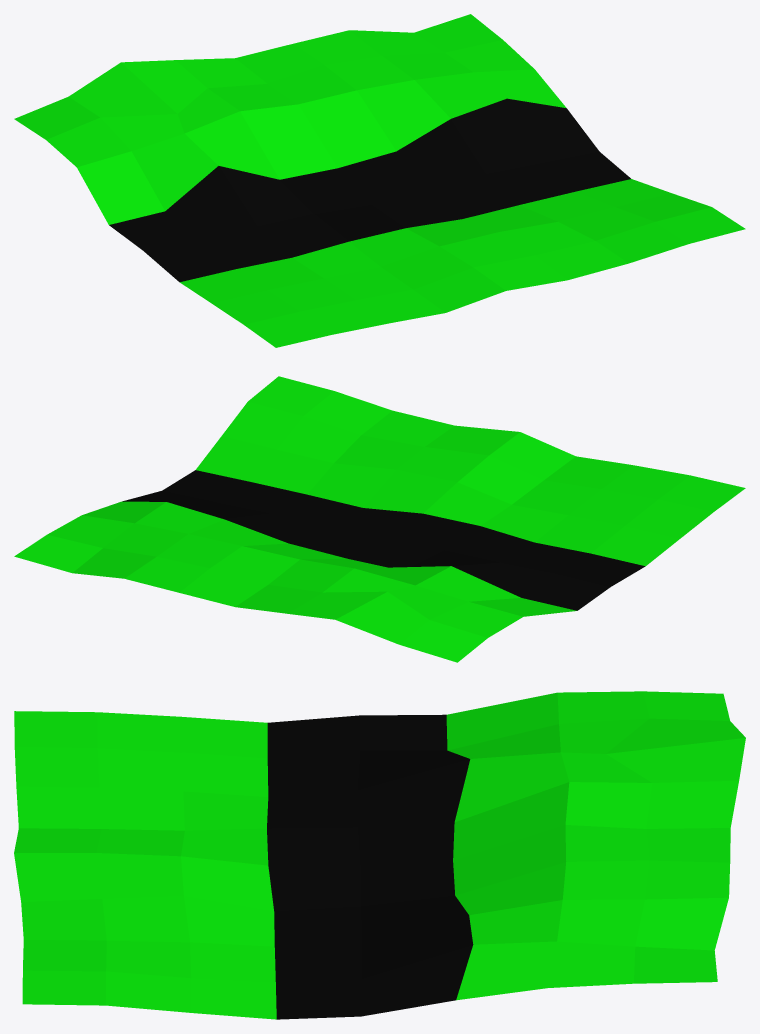
The model's file is Map.fbx.
3 views of the same model, one above another, from view 1: azimuth 30°, elevation 25°; view 2: azimuth 150°, elevation 25°; view 3: azimuth 270°, elevation 25° (orthographic). The views are drawn at different scales.
Parts seen in each view (by area): view 1: Plane; view 2: Plane; view 3: Plane.
Boxes of the visible parts, x1=… form: Plane: x1=14, y1=14, x2=745, y2=347; Plane: x1=14, y1=376, x2=745, y2=662; Plane: x1=14, y1=691, x2=745, y2=1019.
Bounding box in the file's own units: 10533 × 1311 × 11063.
